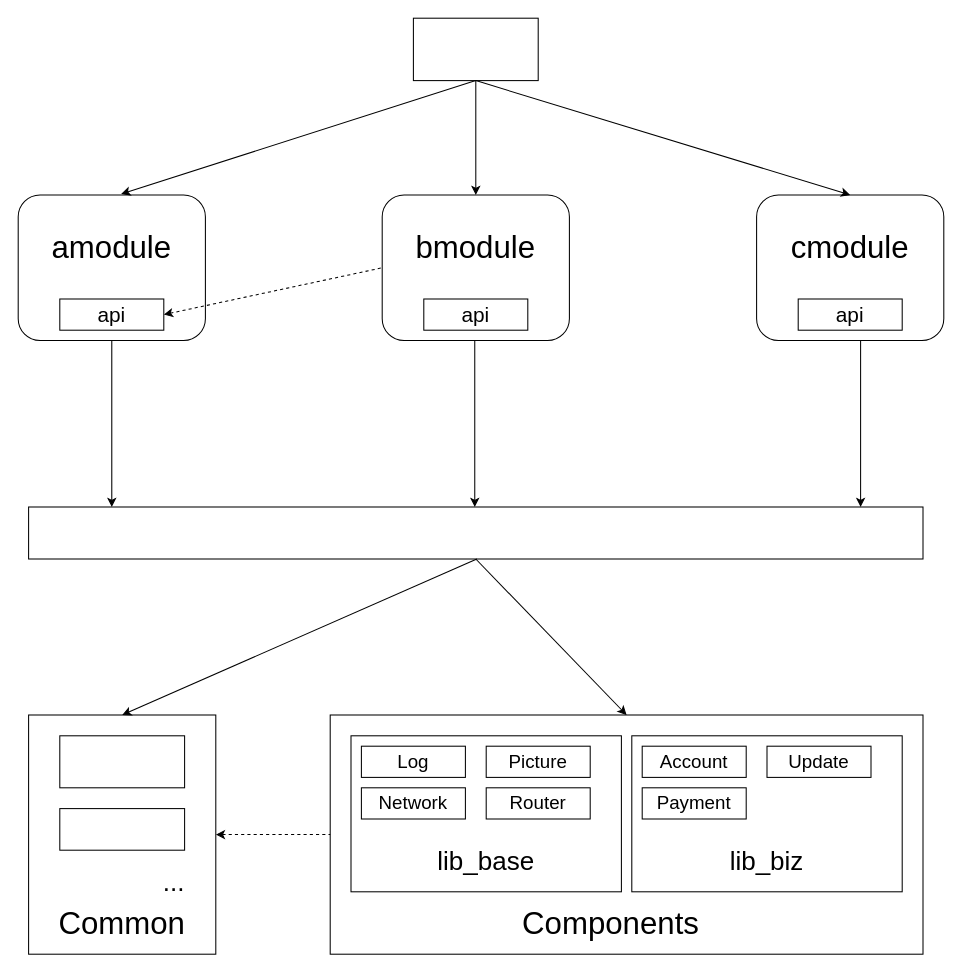
Image size: 962x972. Some labels were removed from this diagram. Here are the shapes that lost their labels. From the top down, the centre of each, then its label:
point 475,49: App
point 475,532: Kernel
point 122,761: Resources
point 122,829: Widgets
